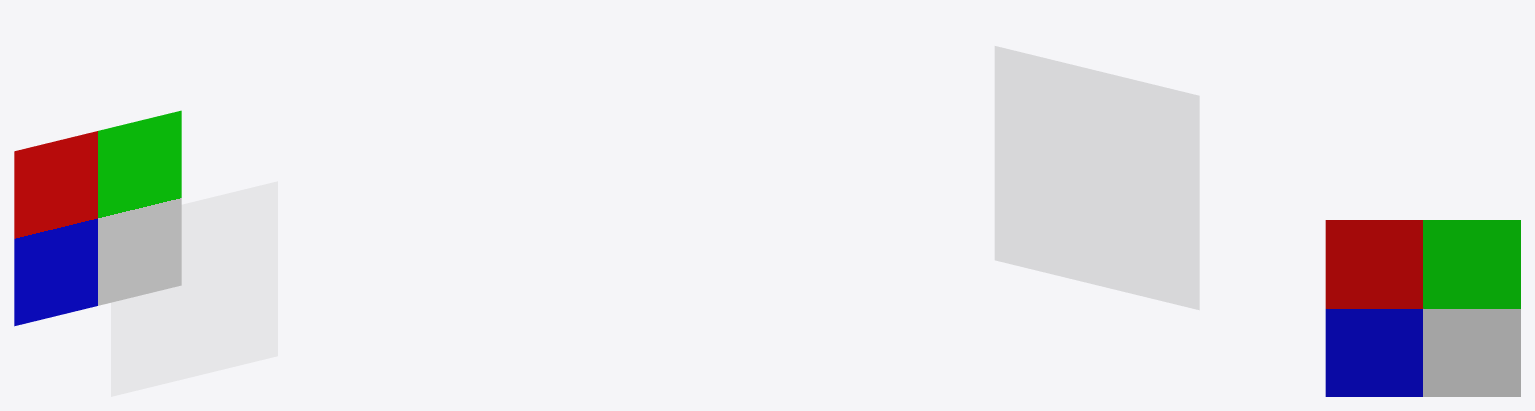
File: test_asset.gltf
3 renders of one model, left to right at view 1: azimuth 30°, elevation 25°; view 2: azimuth 150°, elevation 25°; view 3: azimuth 270°, elevation 25°, orthographic. The views are drawn at different scales.
Visible parts, largest first — view 1: panel_a, glass; view 2: glass; view 3: panel_b.
Boxes of the visible parts, x1=… form: panel_a: x1=14, y1=110, x2=181, y2=326; glass: x1=111, y1=181, x2=277, y2=396; glass: x1=995, y1=46, x2=1199, y2=309; panel_b: x1=1325, y1=220, x2=1520, y2=396.
Bounding box in the file's own units: 2.5 × 1 × 1.5.
Materials: 2 (1 with a texture image).
